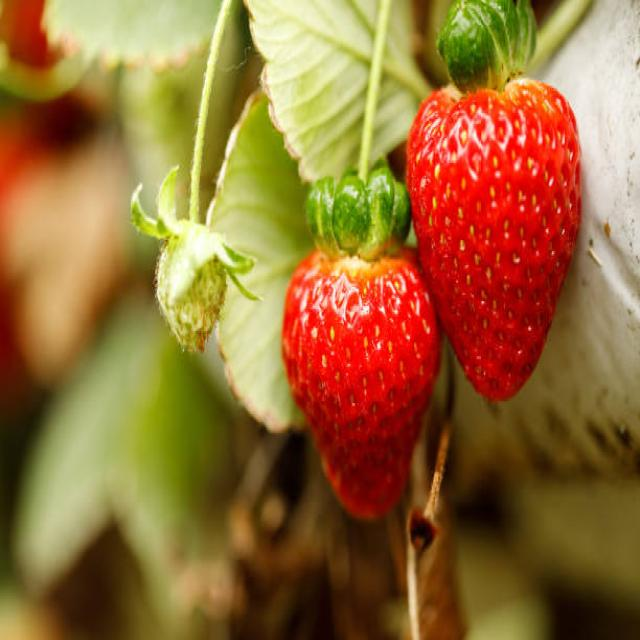Healthy Fruit: (405, 81, 582, 404), (282, 248, 441, 520)
